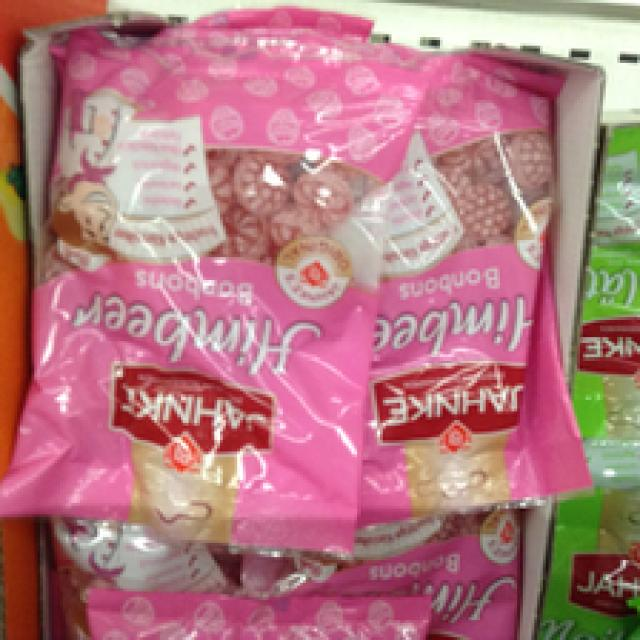groceries: (29, 29, 414, 554), (334, 51, 592, 508)
